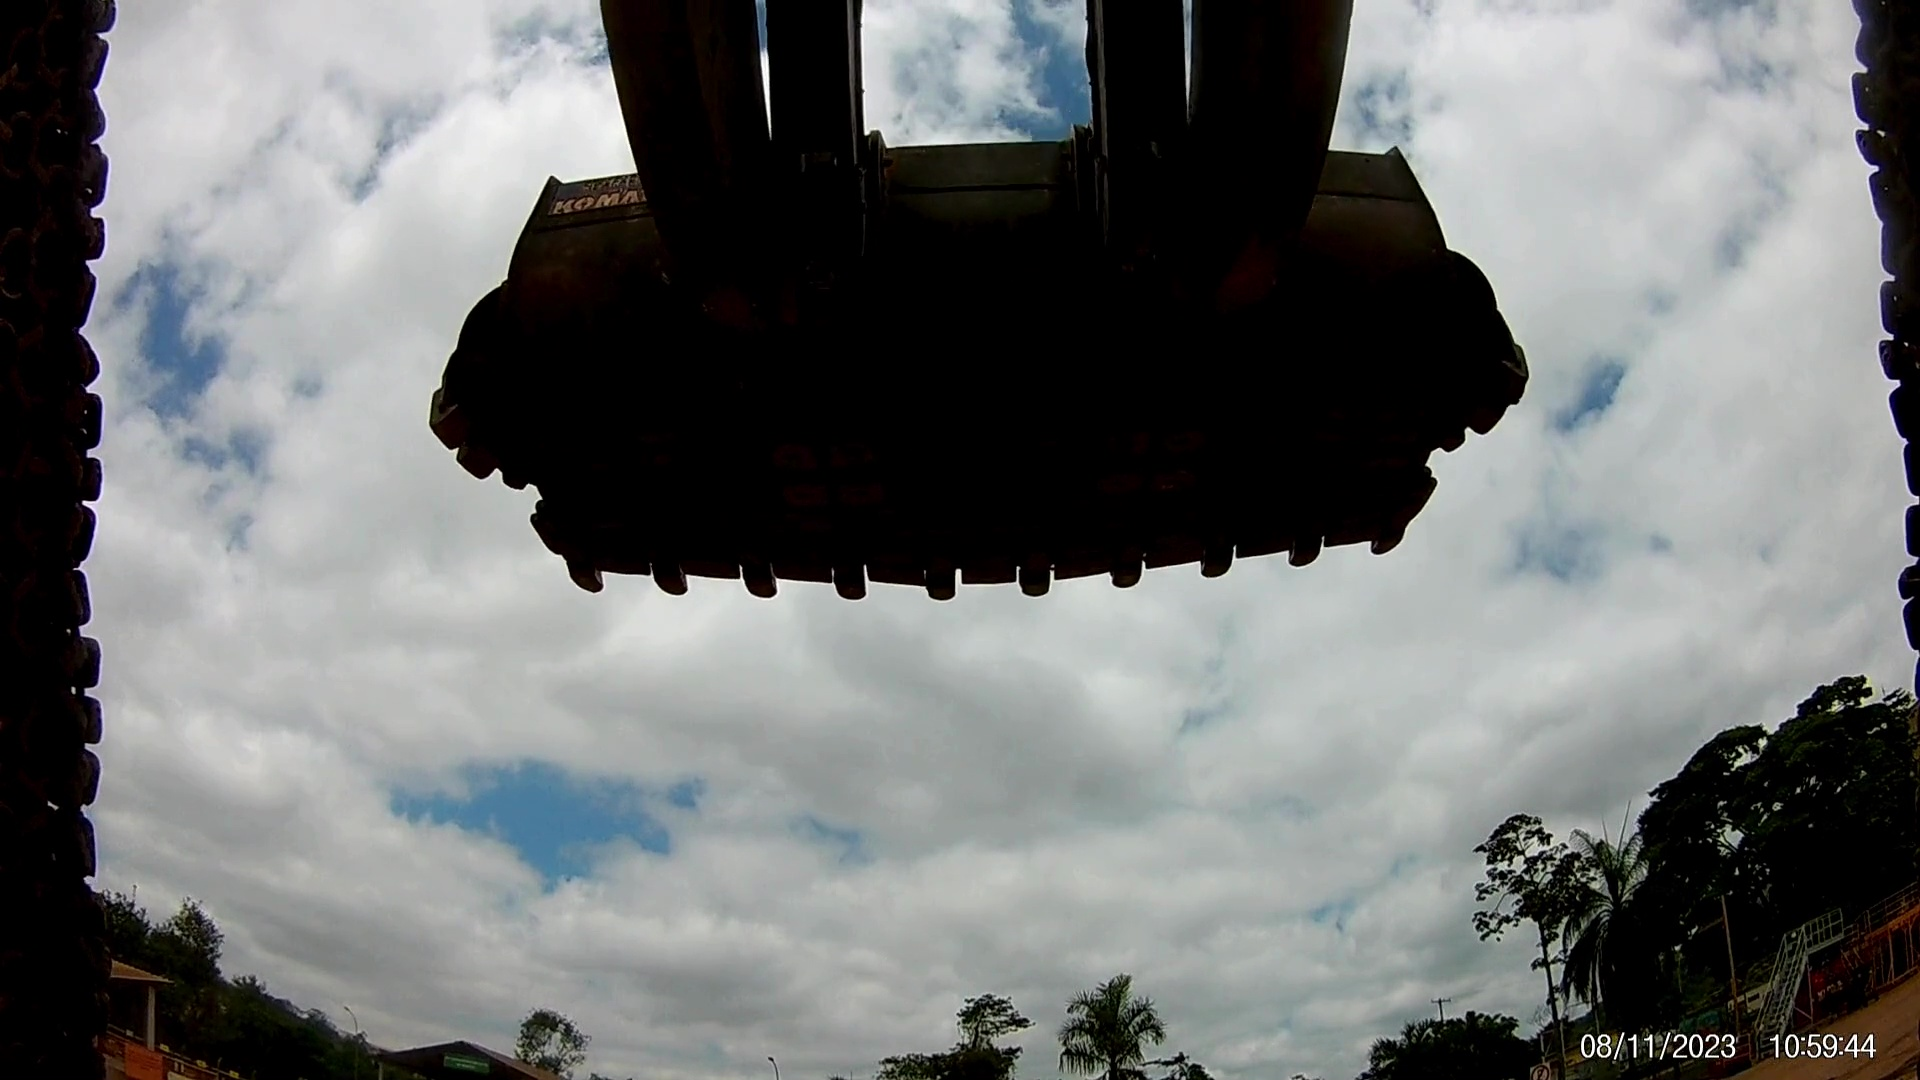FPS: (1275, 520, 1335, 584), (913, 550, 967, 618), (563, 553, 608, 624), (742, 556, 793, 611), (1204, 531, 1240, 603), (843, 555, 877, 622), (1104, 543, 1149, 595), (658, 545, 688, 605), (1373, 516, 1408, 567), (1025, 562, 1056, 605)
